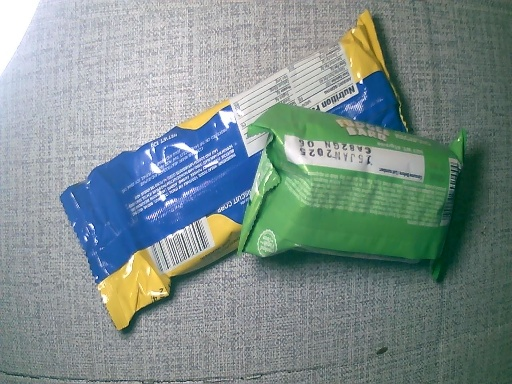plastic: (67, 20, 409, 329), (240, 107, 466, 282)
